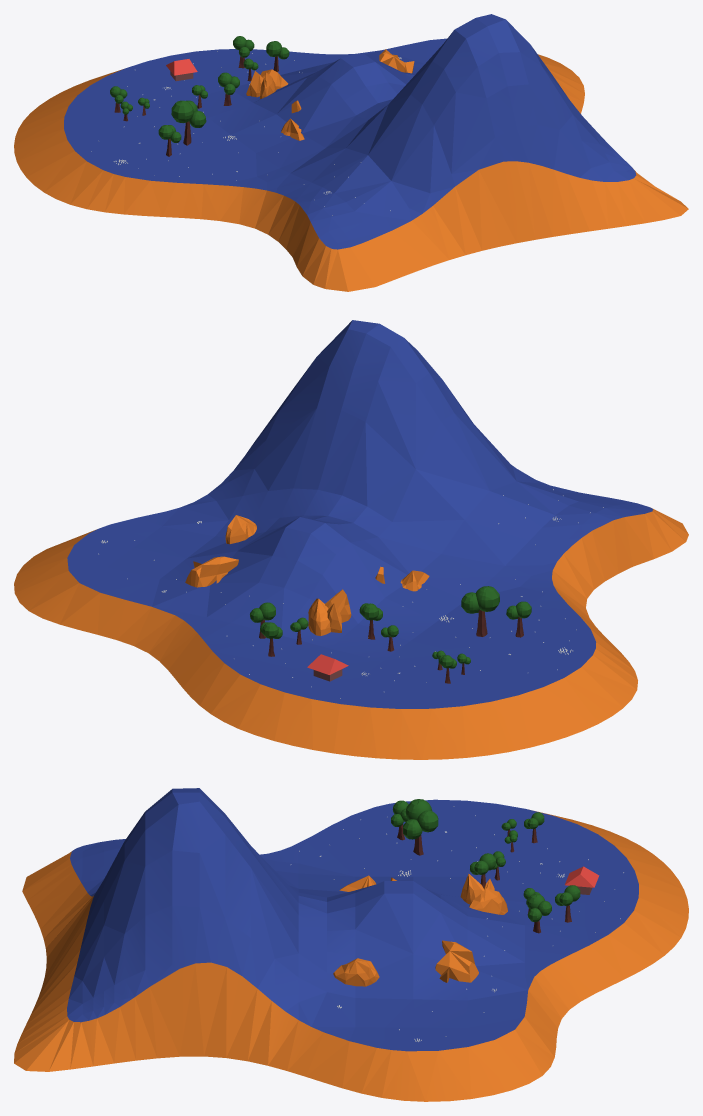
3 renders of one model, top to bottom at view 1: azimuth 30°, elevation 25°; view 2: azimuth 150°, elevation 25°; view 3: azimuth 270°, elevation 25°, orthographic. The views are drawn at different scales.
Parts seen in each view (by area): view 1: base, Object_1, Object_3; view 2: base, Object_1, Object_3; view 3: base, Object_3, Object_1, Object_2.
Boxes of the visible parts, x1,y1,x2,y2 form: base: [14, 14, 688, 291]; Object_1: [246, 69, 288, 98]; Object_3: [379, 49, 414, 73]; base: [14, 320, 688, 759]; Object_1: [308, 589, 351, 635]; Object_3: [185, 556, 238, 587]; base: [14, 788, 688, 1101]; Object_3: [435, 940, 478, 982]; Object_1: [460, 874, 507, 914]; Object_2: [333, 958, 379, 986].
Bounding box in the file's own units: 114 × 35.77 × 110.
